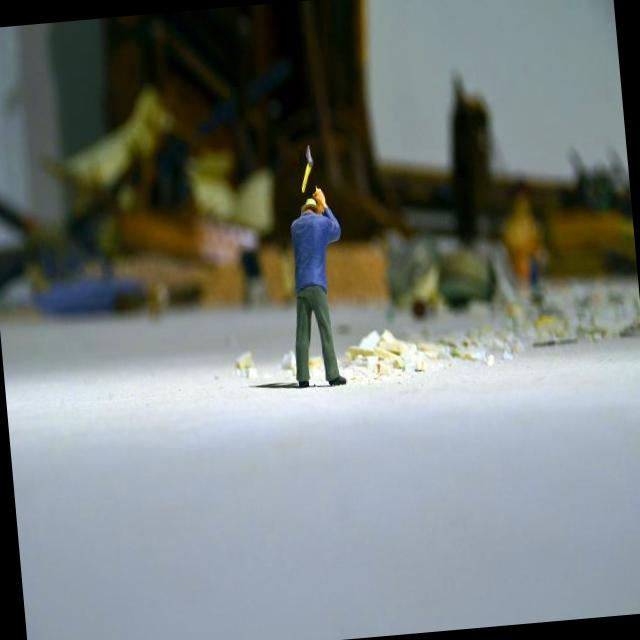Axe: (303, 145, 314, 192)
